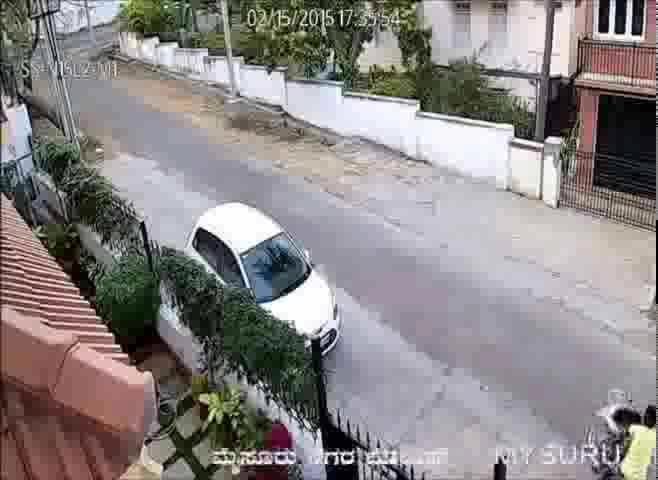snatching objects: (575, 345, 654, 480)
